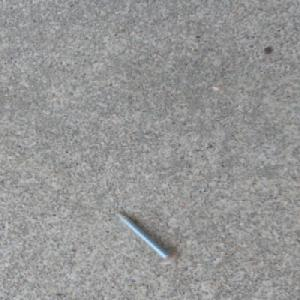Screw: (114, 211, 180, 265)
